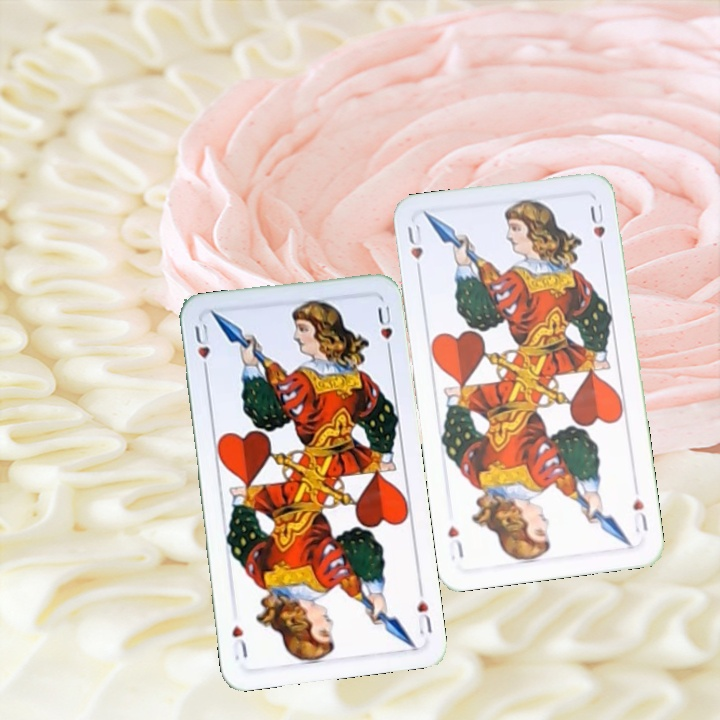HU: (403, 220, 427, 278), (191, 319, 212, 377), (413, 596, 435, 638), (629, 494, 651, 536)
